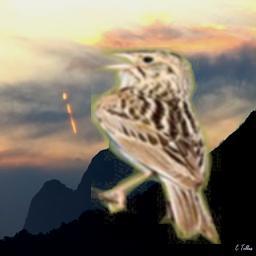Sparrow: (91, 46, 221, 244)
